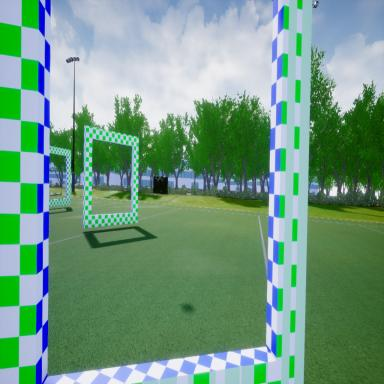gate: (84, 119, 139, 233)
